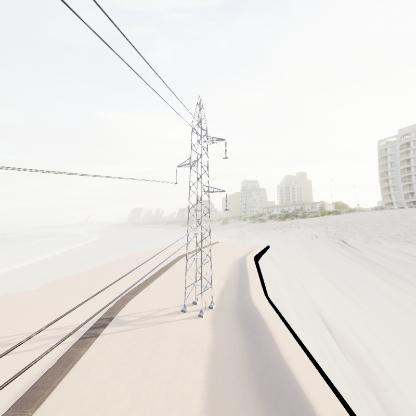tower: (173, 94, 234, 322)
